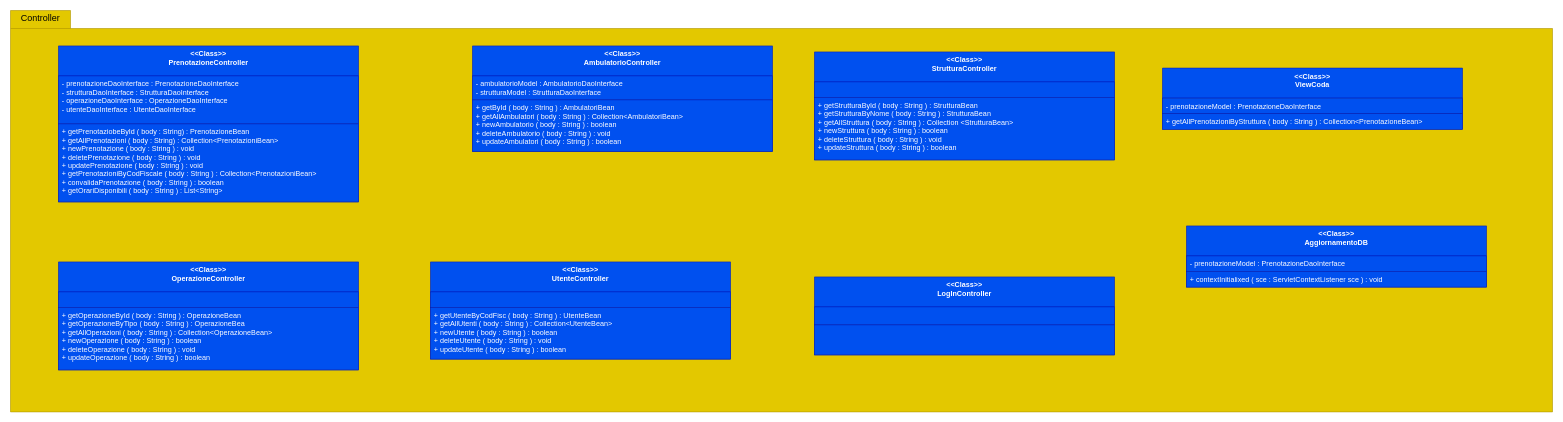
Image size: 1563x422. Some labels were removed from this diagram. The shapes that lost their labels are listed below. From the top down, each one's box as (x1, y1, x2, y2) in pixels, then its label:
(814, 81, 1114, 98): - strutturaModel : StrutturaModelInterface
(58, 291, 358, 308): - operazioneModel : OperazioneDaoInterface
(430, 291, 730, 308): - utenteModel : UtenteDaoInterface
(814, 306, 1114, 325): - utenteDaoInterface : UtenteDaoInterface
(814, 324, 1114, 355): + login ( body : String ) : UtenteBean + singup ( body : String ) : UtenteBean
